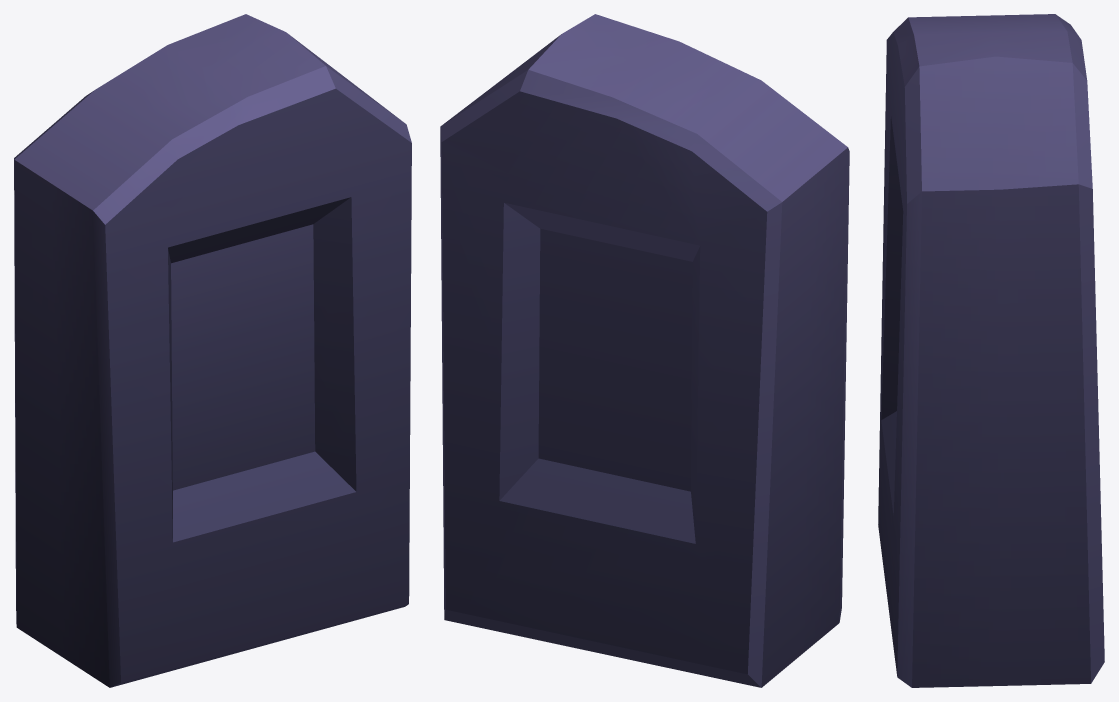
Rendered from prop_tomb_3.glb.
3 renders of one model, left to right at view 1: azimuth 30°, elevation 25°; view 2: azimuth 150°, elevation 25°; view 3: azimuth 270°, elevation 25°, orthographic. The views are drawn at different scales.
Visible parts, largest first — view 1: prop_tomb_3; view 2: prop_tomb_3; view 3: prop_tomb_3.
Part boxes in pixels (x1,y1,x2,y2): prop_tomb_3: (14,14,411,687); prop_tomb_3: (440,14,849,687); prop_tomb_3: (878,14,1104,687).
Bounding box in the file's own units: 1.83 × 2.98 × 1.04.
1 material, 1 textured.
